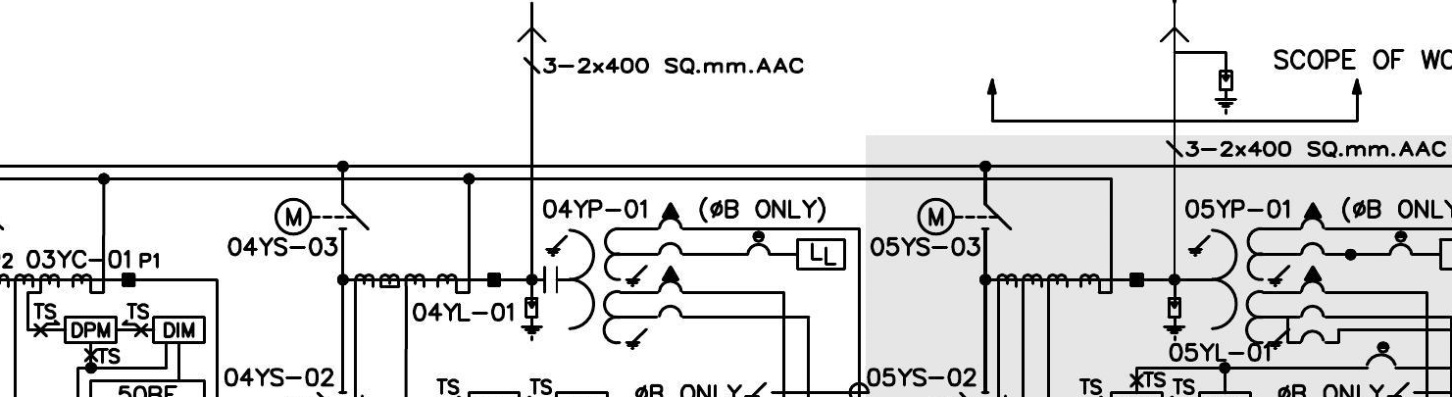115_1way_ds_w_motor: (916, 197, 1013, 237), (274, 197, 370, 236)
115_cvt_1p: (542, 202, 685, 351)
115_la: (1214, 69, 1238, 116), (520, 297, 544, 342), (1162, 297, 1186, 342)
115_vt_1p: (1187, 202, 1327, 350)
DIM: (152, 315, 206, 344)
DPM: (63, 315, 118, 345)
LL: (796, 238, 847, 271)
